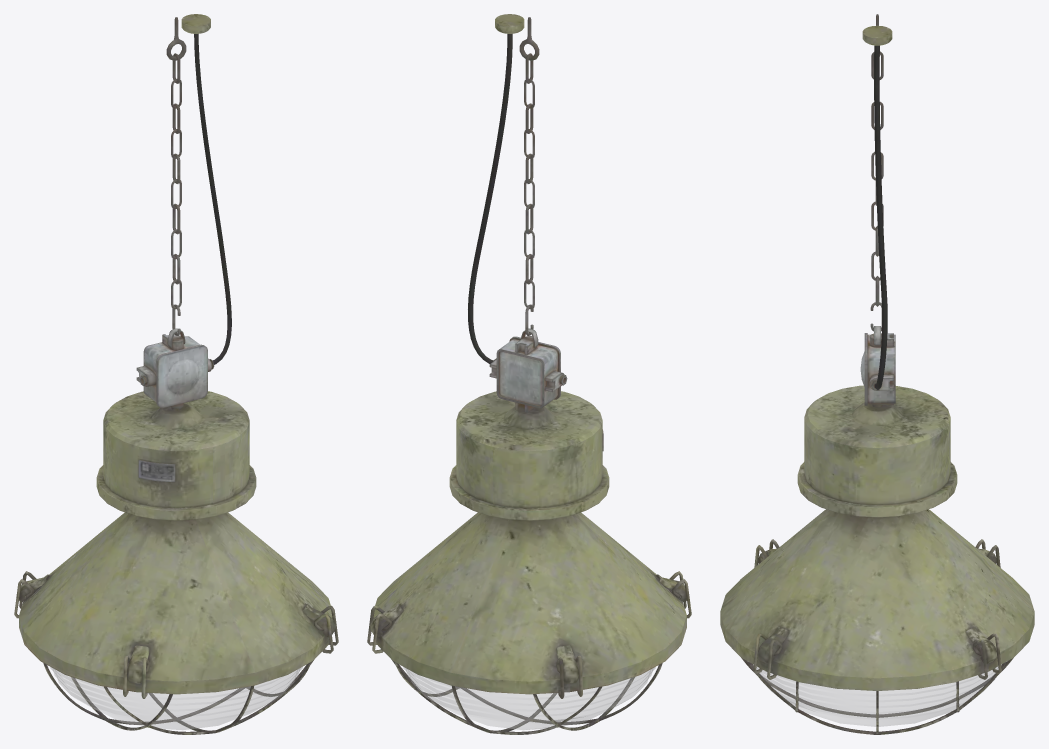
Rendered from hanging_industrial_lamp.glb.
3 views of the same model, side by side, from view 1: azimuth 30°, elevation 25°; view 2: azimuth 150°, elevation 25°; view 3: azimuth 270°, elevation 25° (orthographic).
Parts seen in each view (by area): view 1: hanging_industrial_lamp; view 2: hanging_industrial_lamp; view 3: hanging_industrial_lamp.
Part boxes in pixels (x1,y1,x2,y2): hanging_industrial_lamp: [14, 14, 338, 734]; hanging_industrial_lamp: [367, 14, 691, 734]; hanging_industrial_lamp: [720, 14, 1034, 734].
Bounding box in the file's own units: 0.5497 × 1.36 × 0.5497.
2 materials, 1 textured.
